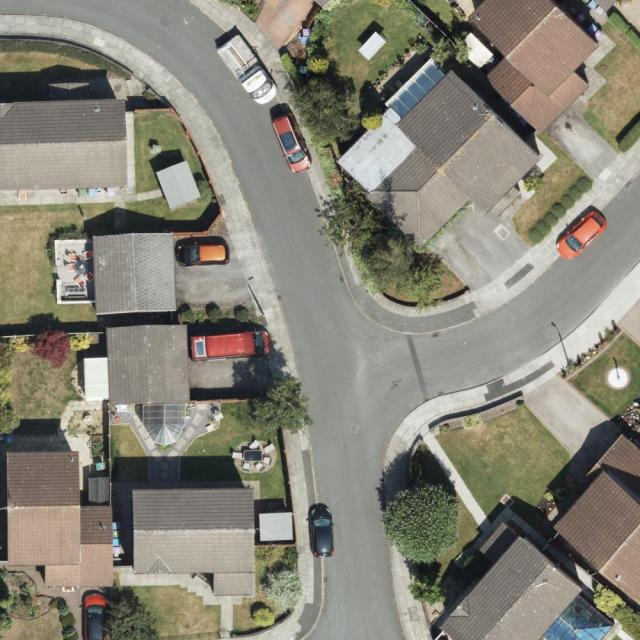roof: (335, 61, 544, 252), (439, 521, 617, 640), (468, 0, 597, 135), (555, 435, 640, 607), (9, 453, 114, 589), (132, 488, 253, 597), (85, 325, 191, 445), (0, 98, 130, 194), (93, 234, 176, 314)
skylight: (542, 597, 615, 640), (142, 402, 187, 447)
